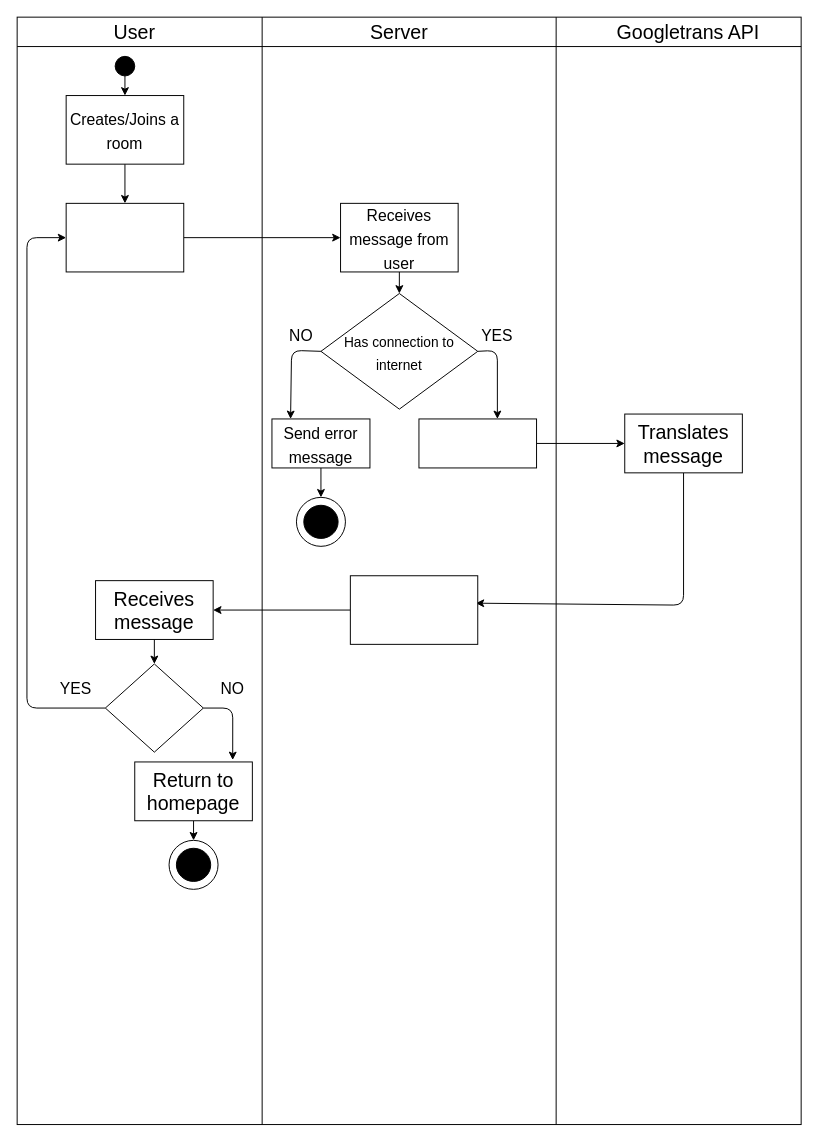
This 819x1142 diagram has some shape labels left out. Each missing label, with the centre of its shape:
"Continue chatting" belongs at [153,707].
"Forward messages to users" belongs at [413,609].
"Send message to API" belongs at [477,443].
"Writes a message" belongs at [124,237].
